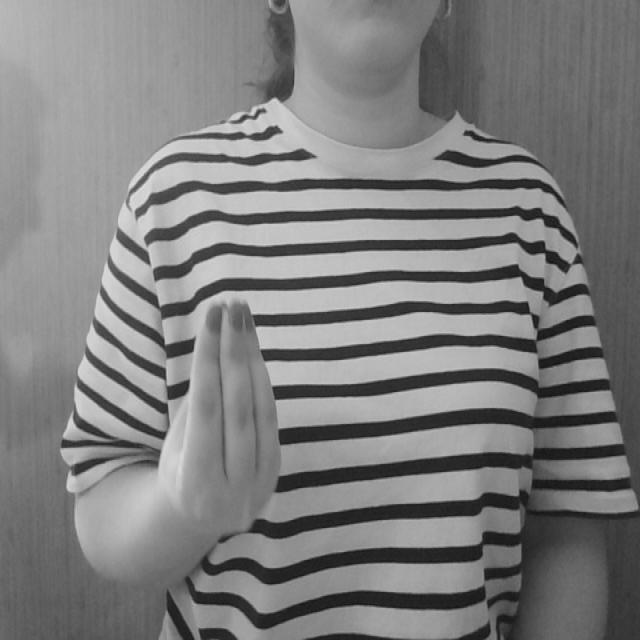iyi: (161, 285, 284, 540)
